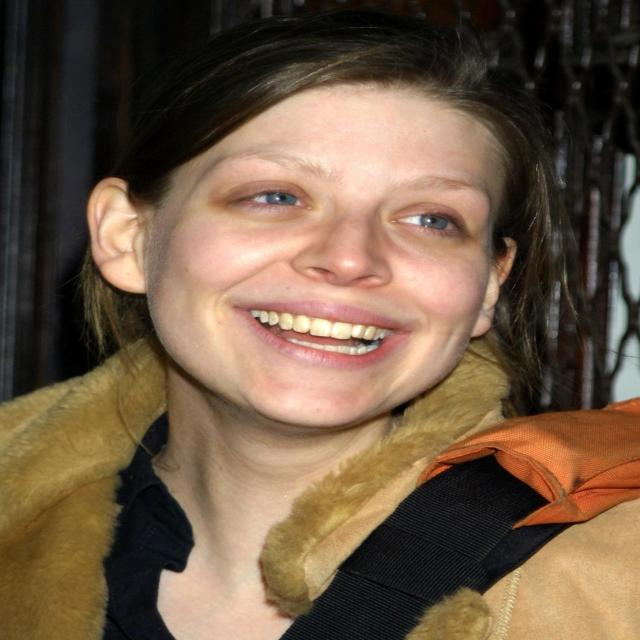no-earmuff: (61, 155, 171, 308), (464, 230, 536, 342)
